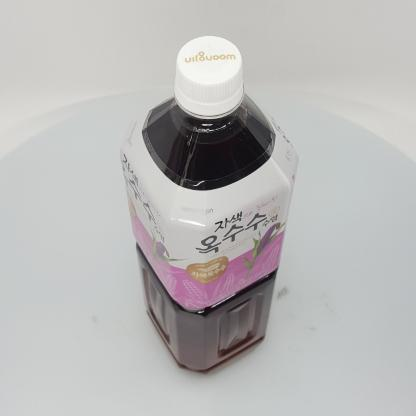----------1-5L: (120, 36, 299, 376)
